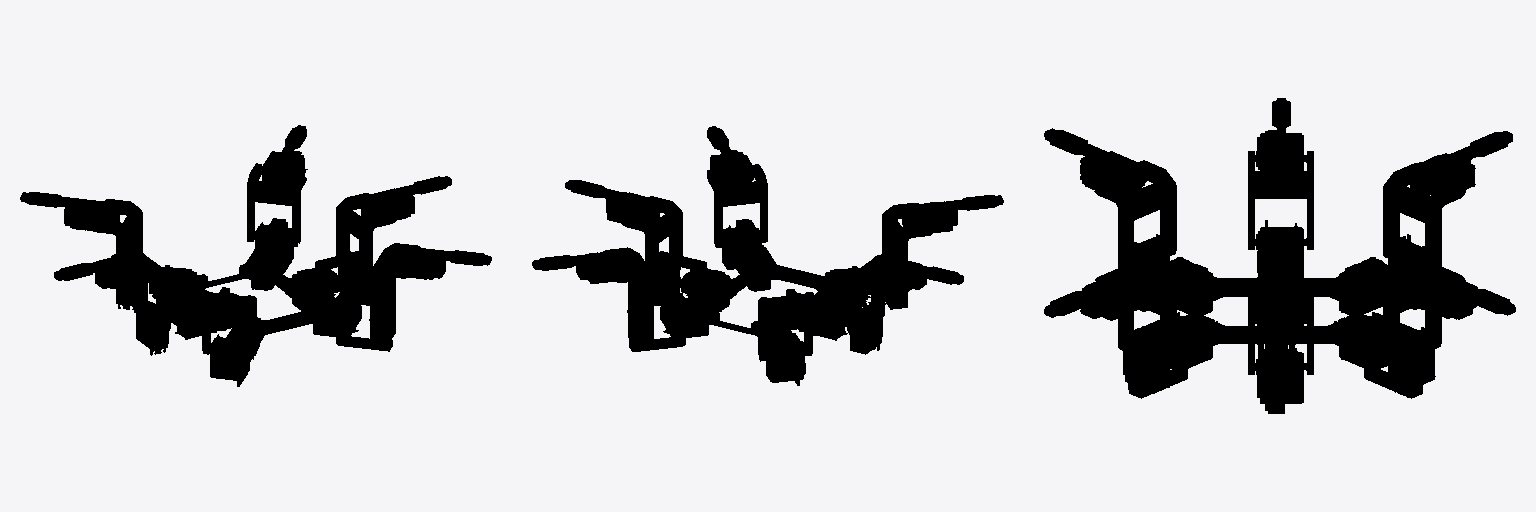
--- What the picture shows (computed from the rendered views, not written in the file) ---
3 views of the same robot in one strip: view 1: azimuth 30°, elevation 25°; view 2: azimuth 150°, elevation 25°; view 3: azimuth 270°, elevation 25° (orthographic).
Model hexapod with 37 links and 36 joints (18 revolute, 18 fixed), rooted at base_link, posed every joint at zero.
Links seen in each view (by area): view 1: base_link, leg5_femur, leg4_femur, leg6_femur, leg1_MG996f, leg2_femur, leg3_femur, leg2_MG996f, leg6_tibia, leg2_tibia, leg3_tibia, leg5_tibia (+18 smaller); view 2: base_link, leg5_femur, leg6_femur, leg2_femur, leg4_femur, leg3_MG996f, leg1_femur, leg4_tibia, leg1_tibia, leg5_tibia, leg2_tibia, leg2_MG996f (+19 smaller); view 3: base_link, leg1_femur, leg3_femur, leg2_femur, leg6_femur, leg4_femur, leg5_MG996f, leg4_MG996f, leg6_MG996f, leg3_tibia, leg4_tibia, leg1_tibia (+20 smaller).
Boxes of the visible links, x1,y1,x2,y2 form: base_link: (149, 246, 361, 347); leg5_femur: (336, 193, 395, 282); leg4_femur: (247, 163, 307, 246); leg6_femur: (370, 243, 420, 328); leg1_MG996f: (210, 334, 249, 386); leg2_femur: (111, 249, 170, 331); leg3_femur: (90, 199, 142, 287); leg2_MG996f: (136, 299, 168, 355); leg6_tibia: (390, 245, 491, 277); leg2_tibia: (54, 251, 148, 288); leg3_tibia: (20, 192, 119, 223); leg5_tibia: (361, 176, 451, 218); base_link: (660, 247, 870, 341); leg5_femur: (621, 196, 682, 286); leg6_femur: (707, 164, 767, 247); leg2_femur: (847, 253, 907, 336); leg4_femur: (603, 247, 653, 333); leg3_MG996f: (766, 333, 806, 385); leg1_femur: (882, 203, 934, 292); leg4_tibia: (532, 250, 631, 279); leg1_tibia: (902, 195, 1003, 225); leg5_tibia: (565, 180, 659, 222); leg2_tibia: (873, 255, 963, 289); leg2_MG996f: (850, 301, 882, 354); base_link: (1154, 254, 1398, 359); leg1_femur: (1094, 160, 1176, 271); leg3_femur: (1383, 163, 1466, 269); leg2_femur: (1248, 151, 1313, 249); leg6_femur: (1095, 268, 1176, 369); leg4_femur: (1383, 266, 1465, 366); leg5_MG996f: (1255, 345, 1303, 410); leg4_MG996f: (1388, 327, 1435, 397); leg6_MG996f: (1123, 326, 1170, 393); leg3_tibia: (1410, 131, 1512, 195); leg4_tibia: (1412, 267, 1515, 319); leg1_tibia: (1044, 128, 1141, 192).
Size in the robot's own frame: 0.4851 by 0.396 by 0.1186 metres.
Meshes: 8 distinct files referenced, 34 mesh visuals loaded (7 binary STL); not drawn: 3 (reference not matched to a file when rendering).

robot.urdf — hexapod:
<?xml version='1.0' encoding='utf-8'?>
<robot name="hexapod">

    <material name="black">
        <color rgba="0 0 0 1" />
    </material>

    <material name="white">
        <color rgba="1 1 1 1" />
    </material>

    <material name="orange">
        <color rgba="0.902 0.345 0 1" />
    </material>

    <link name="base_link">
        <inertial>
            <origin xyz="-1.5537100736355798e-14 -0.002038403435229488 0.006938019086318811" rpy="0.0 0.0 0.0" />
            <mass value="0.6502139585141" />
            <inertia ixx="0.0022857824718964096" iyy="0.0021948811514730725" izz="0.00445927593589297" ixy="9.76998087550513e-17" iyz="2.7823052373888905e-06" ixz="-1.4621550745303059e-18" />
        </inertial>
        <visual name="base_link_visual">
            <origin xyz="0.0 0.0 0.0" rpy="0.0 0.0 0.0" />
            <geometry>
                <mesh filename="Hexapod-Hardware/CAD/base.stl" scale="0.001 0.001 0.001" />
            </geometry>
            <material name="black" />
        </visual>
        <collision name="base_link_collision">
            <origin xyz="0.0 0.0 0.0" rpy="0.0 0.0 0.0" />
            <geometry>
                <mesh filename="Hexapod-Hardware/CAD/base.stl" scale="0.001 0.001 0.001" />
            </geometry>
        </collision>
    </link>

    <!--Leg 1 links-->
    <link name="leg1_MG996c">
        <inertial>
            <origin xyz="-0.021304026820941267 0.013879409959177549 0.008216241413562222" rpy="0.0 -0.0 0.0" />
            <mass value="0.20641808912389753" />
            <inertia ixx="3.9125183253751247e-05" iyy="3.912518931914607e-05" izz="3.601102430698445e-05" ixy="1.135155464957328e-05" iyz="5.607951873505041e-07" ixz="-5.607857783954167e-07" />
        </inertial>
        <visual name="leg1_MG996c_visual">
            <origin xyz="-0.013930002111251399 -0.007283200121891467 -2.220446049250313e-18" rpy="3.141592653589793 -0.0 2.356194490192345" />
            <geometry>
                <mesh filename="Hexapod-Hardware/CAD/MG996.stl" scale="0.001 0.001 0.001" />
            </geometry>
            <material name="black" />
        </visual>
        <collision name="leg1_MG996c_collision">
            <origin xyz="-0.013930002111251399 -0.007283200121891467 -2.220446049250313e-18" rpy="3.141592653589793 -0.0 2.356194490192345" />
            <geometry>
                <mesh filename="Hexapod-Hardware/CAD/MG996.stl" scale="0.001 0.001 0.001" />
            </geometry>
        </collision>
    </link>
    <link name="leg1_coxa">
        <inertial>
            <origin xyz="-0.018048605950277 -0.017834011443633724 -0.02487963924889388" rpy="0.0 -0.0 0.0" />
            <mass value="0.07898637744159479" />
            <inertia ixx="6.0245481740664724e-05" iyy="6.0668022033295594e-05" izz="2.4265877776945624e-05" ixy="-1.0825354473683701e-05" iyz="4.178916067895382e-06" ixz="4.235353595363469e-06" />
        </inertial>
        <visual name="leg1_coxa_visual">
            <origin xyz="-0.03747666052846265 -0.03747666052845746 0.0010000000000000054" rpy="0.0 -0.0 -0.7853981633974483" />
            <geometry>
                <mesh filename="Hexapod-Hardware/CAD/coxa_right.stl" scale="0.001 0.001 0.001" />
            </geometry>
            <material name="black" />
        </visual>
        <collision name="leg1_coxa_collision">
            <origin xyz="-0.03747666052846265 -0.03747666052845746 0.0010000000000000054" rpy="0.0 -0.0 -0.7853981633974483" />
            <geometry>
                <mesh filename="Hexapod-Hardware/CAD/coxa_right.stl" scale="0.001 0.001 0.001" />
            </geometry>
        </collision>
    </link>
    <link name="leg1_MG996f">
        <inertial>
            <origin xyz="0.024878447972789576 0.009522068265377008 0.002097446836807624" rpy="0.0 -0.0 0.0" />
            <mass value="0.20641808912389753" />
            <inertia ixx="2.777363163687565e-05" iyy="4.3243875968366954e-05" izz="4.32438892746384e-05" ixy="5.607883384320042e-07" iyz="-7.232858314518663e-06" ixz="5.607926273139098e-07" />
        </inertial>
        <visual name="leg1_MG996f_visual">
            <origin xyz="0.004700000000000009 0.010606600931670993 -0.010606605868277549" rpy="2.356194490192345 5.551115123125783e-17 5.551115123125783e-17" />
            <geometry>
                <mesh filename="Hexapod-Hardware/CAD/MG996.stl" scale="0.001 0.001 0.001" />
            </geometry>
            <material name="black" />
        </visual>
        <collision name="leg1_MG996f_collision">
            <origin xyz="0.004700000000000009 0.010606600931670993 -0.010606605868277549" rpy="2.356194490192345 5.551115123125783e-17 5.551115123125783e-17" />
            <geometry>
                <mesh filename="Hexapod-Hardware/CAD/MG996.stl" scale="0.001 0.001 0.001" />
            </geometry>
        </collision>
    </link>
    <link name="leg1_femur">
        <inertial>
            <origin xyz="-0.018388939255642358 0.013969821069098333 0.04552760716696073" rpy="0.0 -0.0 0.0" />
            <mass value="0.2061355014221324" />
            <inertia ixx="0.0001174197530764338" iyy="0.0001250673024832975" izz="0.00010098830847293013" ixy="3.467542980046352e-05" iyz="1.1418298465589501e-05" ixz="4.86372304098529e-06" />
        </inertial>
        <visual name="leg1_femur_visual">
            <origin xyz="-0.030405593688388067 0.03040558825519895 1.1102230246251566e-17" rpy="1.5707963267948966 -0.6108652381980156 -2.356194490192345" />
            <geometry>
                <mesh filename="Hexapod-Hardware/CAD/femur_right.stl" scale="0.001 0.001 0.001" />
            </geometry>
            <material name="black" />
        </visual>
        <collision name="leg1_femur_collision">
            <origin xyz="-0.030405593688388067 0.03040558825519895 1.1102230246251566e-17" rpy="1.5707963267948966 -0.6108652381980156 -2.356194490192345" />
            <geometry>
                <mesh filename="Hexapod-Hardware/CAD/femur_right.stl" scale="0.001 0.001 0.001" />
            </geometry>
        </collision>
    </link>
    <link name="leg1_MG996t">
        <inertial>
            <origin xyz="-0.02074495471430888 -0.006501630387875857 2.688362599201355e-09" rpy="0.0 -0.0 0.0" />
            <mass value="0.20641808912389753" />
            <inertia ixx="3.1099250465400734e-05" iyy="3.268540547845828e-05" izz="5.047674093601982e-05" ixy="4.1186963350551605e-06" iyz="6.848918567926504e-12" ixz="2.560036816874473e-12" />
        </inertial>
        <visual name="leg1_MG996t_visual">
            <origin xyz="-0.029203512090292722 0.013576447026899193 0.009750004907434402" rpy="-1.5707963267948968 -7.053861262421881e-16 -0.7853981633974486" />
            <geometry>
                <mesh filename="Hexapod-Hardware/CAD/MG996.stl" scale="0.001 0.001 0.001" />
            </geometry>
            <material name="black" />
        </visual>
        <collision name="leg1_MG996t_collision">
            <origin xyz="-0.029203512090292722 0.013576447026899193 0.009750004907434402" rpy="-1.5707963267948968 -7.053861262421881e-16 -0.7853981633974486" />
            <geometry>
                <mesh filename="Hexapod-Hardware/CAD/MG996.stl" scale="0.001 0.001 0.001" />
            </geometry>
        </collision>
    </link>
    <link name="leg1_tibia">
        <inertial>
            <origin xyz="-0.03995109484200471 -0.025800551093325356 0.013220214065198625" rpy="0.0 -0.0 0.0" />
            <mass value="0.09285304614043148" />
            <inertia ixx="5.1309863875431536e-05" iyy="5.664323795965707e-05" izz="9.868903018824682e-05" ixy="-4.755379767065316e-05" iyz="5.1937257807535475e-06" ixz="6.548081736350214e-06" />
        </inertial>
        <visual name="leg1_tibia_visual">
            <origin xyz="-0.03648670888047988 -0.026162954811762767 -0.004750004907434402" rpy="-0.7853981633974483 -1.570796326794896 0" />
            <geometry>
                <mesh filename="Hexapod-Hardware/CAD/tibia_right.stl" scale="0.001 0.001 0.001" />
            </geometry>
            <material name="black" />
        </visual>
        <collision name="leg1_tibia_collision">
            <origin xyz="-0.03648670888047988 -0.026162954811762767 -0.004750004907434402" rpy="-0.7853981633974483 -1.570796326794896 0" />
            <geometry>
                <mesh filename="Hexapod-Hardware/CAD/tibia_right.stl" scale="0.001 0.001 0.001" />
            </geometry>
        </collision>
    </link>
    <!--
    <link name="leg1_shield">
        <inertial>
            <origin xyz="0.0079568594346555 0.02272417345231009 -0.022724629731227283" rpy="0.0 -0.0 0.0" />
            <mass value="0.09400422482344938" />
            <inertia ixx="0.00011235877990886396" iyy="5.845313432736128e-05" izz="5.845346139379858e-05" ixy="2.724396003726077e-06" iyz="4.05725750517341e-05" ixz="-2.724973858622389e-06" />
        </inertial>
        <visual name="leg1_shield_visual">
            <origin xyz="-4.907434369982866e-09 0.0014142156932291528 0.02687005387244227" rpy="1.5707963267948968 0.7853981633974483 1.570796326794897" />
            <geometry>
                <mesh filename="Hexapod-Hardware/CAD/shield.stl" scale="0.001 0.001 0.001" />
            </geometry>
            <material name="orange" />
        </visual>
        <collision name="leg1_shield_collision">
            <origin xyz="-4.907434369982866e-09 0.0014142156932291528 0.02687005387244227" rpy="1.5707963267948968 0.7853981633974483 1.570796326794897" />
            <geometry>
                <mesh filename="Hexapod-Hardware/CAD/shield.stl" scale="0.001 0.001 0.001" />
            </geometry>
        </collision>
    </link>
    -->

    <!--Leg 2 links-->
    <link name="leg2_MG996c">
        <inertial>
            <origin xyz="-0.02487844797278954 -0.00524999778092809 0.008216241413562222" rpy="0.0 -0.0 0.0" />
            <mass value="0.20641808912389753" />
            <inertia ixx="2.7773631636875524e-05" iyy="5.047674093602156e-05" izz="3.601102430698445e-05" ixy="-3.0326974862454255e-12" iyz="6.653135933115804e-12" ixz="-7.93077506528665e-07" />
        </inertial>
        <visual name="leg2_MG996c_visual">
            <origin xyz="-0.00469999999999998 -0.014999999999999914 -2.220446049250313e-18" rpy="3.141592653589793 -0.0 3.141592653589793" />
            <geometry>
                <mesh filename="Hexapod-Hardware/CAD/MG996.stl" scale="0.001 0.001 0.001" />
            </geometry>
            <material name="black" />
        </visual>
        <collision name="leg2_MG996c_collision">
            <origin xyz="-0.00469999999999998 -0.014999999999999914 -2.220446049250313e-18" rpy="3.141592653589793 -0.0 3.141592653589793" />
            <geometry>
                <mesh filename="Hexapod-Hardware/CAD/MG996.stl" scale="0.001 0.001 0.001" />
            </geometry>
        </collision>
    </link>
    <link name="leg2_coxa">
        <inertial>
            <origin xyz="-0.025372840494155984 0.00015174123084907715 -0.02487963924889388" rpy="0.0 -0.0 0.0" />
            <mass value="0.07898637744159479" />
            <inertia ixx="4.963139741329645e-05" iyy="7.128210636066343e-05" izz="2.4265877776945407e-05" ixy="2.112701463155309e-07" iyz="-3.990735838609893e-08" ixz="5.949787137622529e-06" />
        </inertial>
        <visual name="leg2_coxa_visual">
            <origin xyz="-0.05299999999999999 -9.428360203700333e-17 0.0010000000000000054" rpy="0.0 -0.0 -1.5707963267948966" />
            <geometry>
                <mesh filename="Hexapod-Hardware/CAD/coxa_right.stl" scale="0.001 0.001 0.001" />
            </geometry>
            <material name="black" />
        </visual>
        <collision name="leg2_coxa_collision">
            <origin xyz="-0.05299999999999999 -9.428360203700333e-17 0.0010000000000000054" rpy="0.0 -0.0 -1.5707963267948966" />
            <geometry>
                <mesh filename="Hexapod-Hardware/CAD/coxa_right.stl" scale="0.001 0.001 0.001" />
            </geometry>
        </collision>
    </link>
    <link name="leg2_MG996t">
        <inertial>
            <origin xyz="-0.010071550349059244 -0.019266241413562125 2.6883626169649235e-09" rpy="0.0 -0.0 0.0" />
            <mass value="0.20641808912389753" />
            <inertia ixx="2.7773631636875e-05" iyy="3.601102430698423e-05" izz="5.047674093602069e-05" ixy="-7.930775065286854e-07" iyz="6.653135934699388e-12" ixz="-3.0326969234495404e-12" />
        </inertial>
        <visual name="leg2_MG996t_visual">
            <origin xyz="-0.030249998321848822 -0.0110499999999999 0.00975000490743443" rpy="-1.5707963267948966 -5.608327010386881e-16 -6.123233995736767e-17" />
            <geometry>
                <mesh filename="Hexapod-Hardware/CAD/MG996.stl" scale="0.001 0.001 0.001" />
            </geometry>
            <material name="black" />
        </visual>
        <collision name="leg2_MG996t_collision">
            <origin xyz="-0.030249998321848822 -0.0110499999999999 0.00975000490743443" rpy="-1.5707963267948966 -5.608327010386881e-16 -6.123233995736767e-17" />
            <geometry>
                <mesh filename="Hexapod-Hardware/CAD/MG996.stl" scale="0.001 0.001 0.001" />
            </geometry>
        </collision>
    </link>
    <link name="leg2_femur">
        <inertial>
            <origin xyz="-0.0031247845947251916 0.02288109973213494 0.04552760716696073" rpy="0.0 -0.0 0.0" />
            <mass value="0.2061355014221324" />
            <inertia ixx="0.00015591895758032938" iyy="8.656809797940278e-05" izz="0.00010098830847293013" ixy="3.823774703431824e-06" iyz="4.634784730536001e-06" ixz="1.1513127818724676e-05" />
        </inertial>
        <visual name="leg2_femur_visual">
            <origin xyz="0.0 0.0429999999999999 1.1102230246251566e-17" rpy="1.5707963267948966 -0.6108652381980154 -3.141592653589793" />
            <geometry>
                <mesh filename="Hexapod-Hardware/CAD/femur_right.stl" scale="0.001 0.001 0.001" />
            </geometry>
            <material name="black" />
        </visual>
        <collision name="leg2_femur_collision">
            <origin xyz="0.0 0.0429999999999999 1.1102230246251566e-17" rpy="1.5707963267948966 -0.6108652381980154 -3.141592653589793" />
            <geometry>
                <mesh filename="Hexapod-Hardware/CAD/femur_right.stl" scale="0.001 0.001 0.001" />
            </geometry>
        </collision>
    </link>
    <link name="leg2_MG996f">
        <inertial>
            <origin xyz="0.024878447972789576 0.00821624141356212 -0.00524999778092818" rpy="0.0 -0.0 0.0" />
            <mass value="0.20641808912389753" />
            <inertia ixx="2.7773631636876083e-05" iyy="3.601102430698553e-05" izz="5.047674093602181e-05" ixy="7.930775065286857e-07" iyz="6.653135927923125e-12" ixz="3.0326974655506267e-12" />
        </inertial>
        <visual name="leg2_MG996f_visual">
            <origin xyz="0.004700000000000009 -1.0325074129013956e-16 -0.015" rpy="1.5707963267948968 -0.0 3.749399456654644e-33" />
            <geometry>
                <mesh filename="Hexapod-Hardware/CAD/MG996.stl" scale="0.001 0.001 0.001" />
            </geometry>
            <material name="black" />
        </visual>
        <collision name="leg2_MG996f_collision">
            <origin xyz="0.004700000000000009 -1.0325074129013956e-16 -0.015" rpy="1.5707963267948968 -0.0 3.749399456654644e-33" />
            <geometry>
                <mesh filename="Hexapod-Hardware/CAD/MG996.stl" scale="0.001 0.001 0.001" />
            </geometry>
        </collision>
    </link>
    <link name="leg2_tibia">
        <inertial>
            <origin xyz="-0.04649343100105618 0.010005948932875887 0.002720214065198672" rpy="0.0 -0.0 0.0" />
            <mass value="0.09285304614043148" />
            <inertia ixx="6.42275324689147e-06" iyy="0.00010153034858819679" izz="9.86890301882459e-05" ixy="2.6666870421129167e-06" iyz="-9.576742803426859e-07" ixz="8.302711718731438e-06" />
        </inertial>
        <visual name="leg2_tibia_visual">
            <origin xyz="-0.0442999983218488 0.0072999999999999 -0.015250004907434373" rpy="-1.5707963267948966 -1.570796326794896 0" />
            <geometry>
                <mesh filename="Hexapod-Hardware/CAD/tibia_right.stl" scale="0.001 0.001 0.001" />
            </geometry>
            <material name="black" />
        </visual>
        <collision name="leg2_tibia_collision">
            <origin xyz="-0.0442999983218488 0.0072999999999999 -0.015250004907434373" rpy="-1.5707963267948966 -1.570796326794896 0" />
            <geometry>
                <mesh filename="Hexapod-Hardware/CAD/tibia_right.stl" scale="0.001 0.001 0.001" />
            </geometry>
        </collision>
    </link>
    <!--
    <link name="leg2_shield">
        <inertial>
            <origin xyz="0.007956859434655553 -3.214487111319331e-07 -0.032137151919441255" rpy="0.0 -0.0 0.0" />
            <mass value="0.09400422482344938" />
            <inertia ixx="0.00011235877990886352" iyy="9.902587291231446e-05" izz="1.788072280884496e-05" ixy="-4.0860511540719057e-10" iyz="1.6353321903020065e-10" ixz="-3.853286382860194e-06" />
        </inertial>
        <visual name="leg2_shield_visual">
            <origin xyz="-4.9074343344557295e-09 0.01999999999999988 0.018000000805759805" rpy="4.295254065614839e-32 1.5707963267948966 0" />
            <geometry>
                <mesh filename="Hexapod-Hardware/CAD/shield.stl" scale="0.001 0.001 0.001" />
            </geometry>
            <material name="orange" />
        </visual>
        <collision name="leg2_shield_collision">
            <origin xyz="-4.9074343344557295e-09 0.01999999999999988 0.018000000805759805" rpy="4.295254065614839e-32 1.5707963267948966 0" />
            <geometry>
                <mesh filename="Hexapod-Hardware/CAD/shield.stl" scale="0.001 0.001 0.001" />
            </geometry>
        </collision>
    </link>
    -->

    <!--Leg 3 links-->
    <link name="leg3_MG996c">
        <inertial>
            <origin xyz="-0.013879409959183865 -0.02130402682093723 0.008216241413562222" rpy="0.0 -0.0 0.0" />
            <mass value="0.20641808912389753" />
            <inertia ixx="3.912518931914618e-05" iyy="3.9125183253751247e-05" izz="3.60110243069851e-05" ixy="-1.1351554649573063e-05" iyz="-5.607857783954167e-07" ixz="-5.60795187350477e-07" />
        </inertial>
        <visual name="leg3_MG996c_visual">
            <origin xyz="0.007283200121885147 -0.013930002111247354 -2.220446049250313e-18" rpy="3.141592653589793 -0.0 -2.356194490192345" />
            <geometry>
                <mesh filename="Hexapod-Hardware/CAD/MG996.stl" scale="0.001 0.001 0.001" />
            </geometry>
            <material name="black" />
        </visual>
        <collision name="leg3_MG996c_collision">
            <origin xyz="0.007283200121885147 -0.013930002111247354 -2.220446049250313e-18" rpy="3.141592653589793 -0.0 -2.356194490192345" />
            <geometry>
                <mesh filename="Hexapod-Hardware/CAD/MG996.stl" scale="0.001 0.001 0.001" />
            </geometry>
        </collision>
    </link>
    <link name="leg3_coxa">
        <inertial>
            <origin xyz="-0.017834011443640056 0.018048605950272946 -0.02487963924889388" rpy="0.0 -0.0 0.0" />
            <mass value="0.07898637744159479" />
            <inertia ixx="6.0668022033295486e-05" iyy="6.024548174066451e-05" izz="2.4265877776945407e-05" ixy="1.0825354473683701e-05" iyz="-4.235353595363456e-06" ixz="4.178916067895357e-06" />
        </inertial>
        <visual name="leg3_coxa_visual">
            <origin xyz="-0.03747666052846379 0.0374766605284586 0.0010000000000000054" rpy="0.0 -0.0 -2.356194490192345" />
            <geometry>
                <mesh filename="Hexapod-Hardware/CAD/coxa_right.stl" scale="0.001 0.001 0.001" />
            </geometry>
            <material name="black" />
        </visual>
        <collision name="leg3_coxa_collision">
            <origin xyz="-0.03747666052846379 0.0374766605284586 0.0010000000000000054" rpy="0.0 -0.0 -2.356194490192345" />
            <geometry>
                <mesh filename="Hexapod-Hardware/CAD/coxa_right.stl" scale="0.001 0.001 0.001" />
            </geometry>
        </collision>
    </link>
    <link name="leg3_MG996f">
        <inertial>
            <origin xyz="0.024878447972789576 0.002097446836803627 -0.009522068265370703" rpy="0.0 -0.0 0.0" />
            <mass value="0.20641808912389753" />
            <inertia ixx="2.7773631636876517e-05" iyy="4.3243889274639053e-05" izz="4.3243875968366954e-05" ixy="5.60792627313903e-07" iyz="7.232858314518663e-06" ixz="-5.607883384319974e-07" />
        </inertial>
        <visual name="leg3_MG996f_visual">
            <origin xyz="0.004700000000000009 -0.010606605868281545 -0.01060660093166467" rpy="0.7853981633974483 -0.0 0.0" />
            <geometry>
                <mesh filename="Hexapod-Hardware/CAD/MG996.stl" scale="0.001 0.001 0.001" />
            </geometry>
            <material name="black" />
        </visual>
        <collision name="leg3_MG996f_collision">
            <origin xyz="0.004700000000000009 -0.010606605868281545 -0.01060660093166467" rpy="0.7853981633974483 -0.0 0.0" />
            <geometry>
                <mesh filename="Hexapod-Hardware/CAD/MG996.stl" scale="0.001 0.001 0.001" />
            </geometry>
        </collision>
    </link>
    <link name="leg3_femur">
        <inertial>
            <origin xyz="0.013969821069091976 0.018388939255638323 0.04552760716696073" rpy="0.0 -0.0 0.0" />
            <mass value="0.2061355014221324" />
            <inertia ixx="0.00012506730248329836" iyy="0.0001174197530764338" izz="0.000100988308472931" ixy="-3.467542980046352e-05" iyz="-4.863723040985941e-06" ixz="1.1418298465589068e-05" />
        </inertial>
        <visual name="leg3_femur_visual">
            <origin xyz="0.03040558825519259 0.030405593688384053 1.1102230246251566e-17" rpy="1.5707963267948966 -0.6108652381980152 2.356194490192345" />
            <geometry>
                <mesh filename="Hexapod-Hardware/CAD/femur_right.stl" scale="0.001 0.001 0.001" />
            </geometry>
            <material name="black" />
        </visual>
        <collision name="leg3_femur_collision">
            <origin xyz="0.03040558825519259 0.030405593688384053 1.1102230246251566e-17" rpy="1.5707963267948966 -0.6108652381980152 2.356194490192345" />
            <geometry>
                <mesh filename="Hexapod-Hardware/CAD/femur_right.stl" scale="0.001 0.001 0.001" />
            </geometry>
        </collision>
    </link>
    <link name="leg3_MG996t">
        <inertial>
            <origin xyz="0.005794523434903134 0.0200378477613385 -2.6883626524920603e-09" rpy="0.0 -0.0 0.0" />
            <mass value="0.20641808912389753" />
            <inertia ixx="3.268540547845915e-05" iyy="3.109925046540159e-05" izz="5.047674093601982e-05" ixy="4.118696335054726e-06" iyz="2.5600368163814726e-12" ixz="6.848918349121394e-12" />
        </inertial>
        <visual name="leg3_MG996t_visual">
            <origin xyz="-0.014283553979871896 0.028496405137322347 -0.009750004907434481" rpy="1.5707963267948966 -3.885780586188048e-16 -0.7853981633974485" />
            <geometry>
                <mesh filename="Hexapod-Hardware/CAD/MG996.stl" scale="0.001 0.001 0.001" />
            </geometry>
            <material name="black" />
        </visual>
        <collision name="leg3_MG996t_collision">
            <origin xyz="-0.014283553979871896 0.028496405137322347 -0.009750004907434481" rpy="1.5707963267948966 -3.885780586188048e-16 -0.7853981633974485" />
            <geometry>
                <mesh filename="Hexapod-Hardware/CAD/MG996.stl" scale="0.001 0.001 0.001" />
            </geometry>
        </collision>
    </link>
    <link name="leg3_tibia">
        <inertial>
            <origin xyz="-0.025800548046298104 0.03995109788903433 0.013220214065198573" rpy="0.0 -0.0 0.0" />
            <mass value="0.09285304614043148" />
            <inertia ixx="5.664323795965664e-05" iyy="5.130986387543064e-05" izz="9.86890301882459e-05" ixy="4.7553797670652495e-05" iyz="-6.548081736349994e-06" ixz="5.1937257807537635e-06" />
        </inertial>
        <visual name="leg3_tibia_visual">
            <origin xyz="-0.026162951764735497 0.0364867119275095 -0.004750004907434464" rpy="-2.356194490192345 -1.5707963267948963 0" />
            <geometry>
                <mesh filename="Hexapod-Hardware/CAD/tibia_right.stl" scale="0.001 0.001 0.001" />
            </geometry>
            <material name="black" />
        </visual>
        <collision name="leg3_tibia_collision">
            <origin xyz="-0.026162951764735497 0.0364867119275095 -0.004750004907434464" rpy="-2.356194490192345 -1.5707963267948963 0" />
            <geometry>
                <mesh filename="Hexapod-Hardware/CAD/tibia_right.stl" scale="0.001 0.001 0.001" />
            </geometry>
        </collision>
    </link>
    <!--
    <link name="leg3_shield">
        <inertial>
            <origin xyz="0.007956859434655428 -0.022724626684197596 -0.022724166499337298" rpy="-2.7369110631344083e-48 6.842277657836022e-49 -6.842277657836022e-49" />
            <mass value="0.09400422482344938" />
            <inertia ixx="0.0001123587799088648" iyy="5.8453461393798565e-05" izz="5.8453134327360844e-05" ixy="-2.724973858622388e-06" iyz="-4.0572575051734526e-05" ixz="-2.7243960037262936e-06" />
        </inertial>
        <visual name="leg3_shield_visual">
            <origin xyz="-4.907434458800708e-09 0.02687005691947199 -0.0014142087402563774" rpy="-1.5707963267948966 0.7853981633974483 -1.5707963267948966" />
            <geometry>
                <mesh filename="Hexapod-Hardware/CAD/shield.stl" scale="0.001 0.001 0.001" />
            </geometry>
            <material name="orange" />
        </visual>
        <collision name="leg3_shield_collision">
            <origin xyz="-4.907434458800708e-09 0.02687005691947199 -0.0014142087402563774" rpy="-1.5707963267948966 0.7853981633974483 -1.5707963267948966" />
            <geometry>
                <mesh filename="Hexapod-Hardware/CAD/shield.stl" scale="0.001 0.001 0.001" />
            </geometry>
        </collision>
    </link>
    -->

    <!--Leg 4 links-->
    <link name="leg4_MG996c">
        <inertial>
            <origin xyz="0.021304026820941204 -0.01387940995917754 0.008216241413562222" rpy="0.0 -0.0 0.0" />
            <mass value="0.20641808912389753" />
            <inertia ixx="3.912518325375103e-05" iyy="3.912518931914607e-05" izz="3.601102430698445e-05" ixy="1.1351554649573063e-05" iyz="-5.60795187350477e-07" ixz="5.607857783954031e-07" />
        </inertial>
        <visual name="leg4_MG996c_visual">
            <origin xyz="0.013930002111251337 0.007283200121891475 -2.220446049250313e-18" rpy="3.141592653589793 -0.0 -0.7853981633974483" />
            <geometry>
                <mesh filename="Hexapod-Hardware/CAD/MG996.stl" scale="0.001 0.001 0.001" />
            </geometry>
            <material name="black" />
        </visual>
        <collision name="leg4_MG996c_collision">
            <origin xyz="0.013930002111251337 0.007283200121891475 -2.220446049250313e-18" rpy="3.141592653589793 -0.0 -0.7853981633974483" />
            <geometry>
                <mesh filename="Hexapod-Hardware/CAD/MG996.stl" scale="0.001 0.001 0.001" />
            </geometry>
        </collision>
    </link>
    <link name="leg4_coxa">
        <inertial>
            <origin xyz="0.017834011443634532 0.018048605950276093 -0.024879639248893887" rpy="0.0 -0.0 0.0" />
            <mass value="0.07898637744159481" />
            <inertia ixx="6.066802203296567e-05" iyy="6.024548174035898e-05" izz="2.4265877776310065e-05" ixy="-1.0825354473048359e-05" iyz="-4.23535359535696e-06" ixz="-4.178916067901856e-06" />
        </inertial>
        <visual name="leg4_coxa_visual">
            <origin xyz="0.03747666052846258 0.037476660528457446 0.0010000000000000054" rpy="3.141592653589793 -0.0 -0.7853981633974485" />
            <geometry>
                <mesh filename="Hexapod-Hardware/CAD/coxa_left.stl" scale="0.001 0.001 0.001" />
            </geometry>
            <material name="black" />
        </visual>
        <collision name="leg4_coxa_collision">
            <origin xyz="0.03747666052846258 0.037476660528457446 0.0010000000000000054" rpy="3.141592653589793 -0.0 -0.7853981633974485" />
            <geometry>
                <mesh filename="Hexapod-Hardware/CAD/coxa_left.stl" scale="0.001 0.001 0.001" />
            </geometry>
        </collision>
    </link>
    <link name="leg4_MG996f">
        <inertial>
            <origin xyz="-0.024521552027210444 -0.009522073698561045 -0.0020974514036133664" rpy="0.0 -0.0 0.0" />
            <mass value="0.20641808912389753" />
            <inertia ixx="2.7773631636876517e-05" iyy="4.324387596836739e-05" izz="4.324388927463927e-05" ixy="-5.607883384319703e-07" iyz="-7.2328583145190965e-06" ixz="-5.607926273139301e-07" />
        </inertial>
        <visual name="leg4_MG996f_visual">
            <origin xyz="-0.04470000000000001 -0.010606606364855012 0.010606601301471806" rpy="-0.7853981633974485 -5.5511151231257815e-17 -1.1102230246251563e-16" />
            <geometry>
                <mesh filename="Hexapod-Hardware/CAD/MG996.stl" scale="0.001 0.001 0.001" />
            </geometry>
            <material name="black" />
        </visual>
        <collision name="leg4_MG996f_collision">
            <origin xyz="-0.04470000000000001 -0.010606606364855012 0.010606601301471806" rpy="-0.7853981633974485 -5.5511151231257815e-17 -1.1102230246251563e-16" />
            <geometry>
                <mesh filename="Hexapod-Hardware/CAD/MG996.stl" scale="0.001 0.001 0.001" />
            </geometry>
        </collision>
    </link>
    <link name="leg4_femur">
        <inertial>
            <origin xyz="-0.013969821069090945 0.018388939255639673 0.045527607166963115" rpy="0.0 -0.0 0.0" />
            <mass value="0.2061355014221325" />
            <inertia ixx="0.00012506730248260448" iyy="0.00011741975307571473" izz="0.00010098830847278525" ixy="3.4675429800533335e-05" iyz="-4.8637230415219685e-06" ixz="-1.141829846611317e-05" />
        </inertial>
        <visual name="leg4_femur_visual">
            <origin xyz="-0.03040558825519396 0.03040559368838304 2.4424906541753444e-17" rpy="1.5707963267948963 -0.6108652381980147 0.7853981633974478" />
            <geometry>
                <mesh filename="Hexapod-Hardware/CAD/femur_left.stl" scale="0.001 0.001 0.001" />
            </geometry>
            <material name="black" />
        </visual>
        <collision name="leg4_femur_collision">
            <origin xyz="-0.03040558825519396 0.03040559368838304 2.4424906541753444e-17" rpy="1.5707963267948963 -0.6108652381980147 0.7853981633974478" />
            <geometry>
                <mesh filename="Hexapod-Hardware/CAD/femur_left.stl" scale="0.001 0.001 0.001" />
            </geometry>
        </collision>
    </link>
    <link name="leg4_MG996t">
        <inertial>
            <origin xyz="-0.006501630387870669 -0.020744954714303744 7.126506247345787e-09" rpy="-1.5407439555097887e-33 1.232595164407831e-32 0.0" />
            <mass value="0.20641808912389753" />
            <inertia ixx="3.2685405478459134e-05" iyy="3.109925046540072e-05" izz="5.0476740936021544e-05" ixy="4.118696335055157e-06" iyz="-2.560036818518699e-12" ixz="-6.8489181349411156e-12" />
        </inertial>
        <visual name="leg4_MG996t_visual">
            <origin xyz="0.013576447026904397 -0.029203512090287608 -0.009749995092565564" rpy="1.5707963267948968 3.67395003908284e-16 2.3561944901923453" />
            <geometry>
                <mesh filename="Hexapod-Hardware/CAD/MG996.stl" scale="0.001 0.001 0.001" />
            </geometry>
            <material name="black" />
        </visual>
        <collision name="leg4_MG996t_collision">
            <origin xyz="0.013576447026904397 -0.029203512090287608 -0.009749995092565564" rpy="1.5707963267948968 3.67395003908284e-16 2.3561944901923453" />
            <geometry>
                <mesh filename="Hexapod-Hardware/CAD/MG996.stl" scale="0.001 0.001 0.001" />
            </geometry>
        </collision>
    </link>
    <link name="leg4_tibia">
        <inertial>
            <origin xyz="0.025800551093330404 0.039951094841999525 0.013220214065198634" rpy="0.0 -0.0 -6.123514873949634e-63" />
            <mass value="0.09285304614043133" />
            <inertia ixx="5.6643237959664444e-05" iyy="5.1309863875438e-05" izz="9.868903018825977e-05" ixy="-4.7553797670659644e-05" iyz="-6.548081736350427e-06" ixz="-5.193725780753547e-06" />
        </inertial>
        <visual name="leg4_tibia_visual">
            <origin xyz="0.026162954811767863 0.03648670888047475 -0.004750004907434428" rpy="2.3561944901923457 -1.5707963267948963 0" />
            <geometry>
                <mesh filename="Hexapod-Hardware/CAD/tibia_left.stl" scale="0.001 0.001 0.001" />
            </geometry>
            <material name="black" />
        </visual>
        <collision name="leg4_tibia_collision">
            <origin xyz="0.026162954811767863 0.03648670888047475 -0.004750004907434428" rpy="2.3561944901923457 -1.5707963267948963 0" />
            <geometry>
                <mesh filename="Hexapod-Hardware/CAD/tibia_left.stl" scale="0.001 0.001 0.001" />
            </geometry>
        </collision>
    </link>
    <!--
    <link name="leg4_shield">
        <inertial>
            <origin xyz="0.007956859434655482 0.0227241751341057 -0.02272462804943171" rpy="0.0 6.842277657836022e-49 0.0" />
            <mass value="0.09400422482344938" />
            <inertia ixx="0.0001123587799088648" iyy="5.845313432735996e-05" izz="5.845346139379901e-05" ixy="2.724396003726727e-06" iyz="4.0572575051735394e-05" ixz="-2.7249738586223884e-06" />
        </inertial>
        <visual name="leg4_shield_visual">
            <origin xyz="-4.907434423273571e-09 0.0014142173750247267 0.026870055554237843" rpy="1.5707963267948963 0.7853981633974475 1.5707963267948961" />
            <geometry>
                <mesh filename="Hexapod-Hardware/CAD/shield.stl" scale="0.001 0.001 0.001" />
            </geometry>
            <material name="orange" />
        </visual>
        <collision name="leg4_shield_collision">
            <origin xyz="-4.907434423273571e-09 0.0014142173750247267 0.026870055554237843" rpy="1.5707963267948963 0.7853981633974475 1.5707963267948961" />
            <geometry>
                <mesh filename="Hexapod-Hardware/CAD/shield.stl" scale="0.001 0.001 0.001" />
            </geometry>
        </collision>
    </link>
    -->

    <!--Leg 5 links-->
    <link name="leg5_MG996c">
        <inertial>
            <origin xyz="0.02487844797278954 0.005249997780928263 0.008216241413562222" rpy="0.0 -0.0 0.0" />
            <mass value="0.20641808912389753" />
            <inertia ixx="2.7773631636875538e-05" iyy="5.047674093602156e-05" izz="3.601102430698445e-05" ixy="-3.0326974931145142e-12" iyz="-6.653135931721467e-12" ixz="7.93077506528665e-07" />
        </inertial>
        <visual name="leg5_MG996c_visual">
            <origin xyz="0.00469999999999998 0.015000000000000084 -2.220446049250313e-18" rpy="3.141592653589793 -0.0 0.0" />
            <geometry>
                <mesh filename="Hexapod-Hardware/CAD/MG996.stl" scale="0.001 0.001 0.001" />
            </geometry>
            <material name="black" />
        </visual>
        <collision name="leg5_MG996c_collision">
            <origin xyz="0.00469999999999998 0.015000000000000084 -2.220446049250313e-18" rpy="3.141592653589793 -0.0 0.0" />
            <geometry>
                <mesh filename="Hexapod-Hardware/CAD/MG996.stl" scale="0.001 0.001 0.001" />
            </geometry>
        </collision>
    </link>
    <link name="leg5_coxa">
        <inertial>
            <origin xyz="0.025372840494155967 0.00015174123085516145 -0.024879639248893887" rpy="0.0 -0.0 0.0" />
            <mass value="0.07898637744159481" />
            <inertia ixx="4.9631397413614e-05" iyy="7.128210635971063e-05" izz="2.4265877776310173e-05" ixy="-2.112701463033402e-07" iyz="-3.9907358376888544e-08" ixz="-5.949787137622581e-06" />
        </inertial>
        <visual name="leg5_coxa_visual">
            <origin xyz="0.05299999999999999 -9.30026689001082e-17 0.0010000000000000054" rpy="3.141592653589793 -0.0 -1.5707963267948968" />
            <geometry>
                <mesh filename="Hexapod-Hardware/CAD/coxa_left.stl" scale="0.001 0.001 0.001" />
            </geometry>
            <material name="black" />
        </visual>
        <collision name="leg5_coxa_collision">
            <origin xyz="0.05299999999999999 -9.30026689001082e-17 0.0010000000000000054" rpy="3.141592653589793 -0.0 -1.5707963267948968" />
            <geometry>
                <mesh filename="Hexapod-Hardware/CAD/coxa_left.stl" scale="0.001 0.001 0.001" />
            </geometry>
        </collision>
    </link>
    <link name="leg5_MG996f">
        <inertial>
            <origin xyz="0.02487844797278957 -0.008216241413562128 0.005249997780928162" rpy="0.0 -0.0 0.0" />
            <mass value="0.20641808912389753" />
            <inertia ixx="2.777363163687565e-05" iyy="3.60110243069851e-05" izz="5.047674093602178e-05" ixy="-7.930775065286956e-07" iyz="6.6531359482519155e-12" ixz="-3.032697492655681e-12" />
        </inertial>
        <visual name="leg5_MG996f_visual">
            <origin xyz="0.004700000000000006 9.880984919163893e-17 0.014999999999999982" rpy="-1.5707963267948968 -1.224646799147353e-16 1.5559211466421447e-32" />
            <geometry>
                <mesh filename="Hexapod-Hardware/CAD/MG996.stl" scale="0.001 0.001 0.001" />
            </geometry>
            <material name="black" />
        </visual>
        <collision name="leg5_MG996f_collision">
            <origin xyz="0.004700000000000006 9.880984919163893e-17 0.014999999999999982" rpy="-1.5707963267948968 -1.224646799147353e-16 1.5559211466421447e-32" />
            <geometry>
                <mesh filename="Hexapod-Hardware/CAD/MG996.stl" scale="0.001 0.001 0.001" />
            </geometry>
        </collision>
    </link>
    <link name="leg5_femur">
        <inertial>
            <origin xyz="0.0031247845947285314 0.02288109973213497 0.04552760716696307" rpy="0.0 -0.0 0.0" />
            <mass value="0.2061355014221325" />
            <inertia ixx="0.0001559189575796934" iyy="8.656809797862215e-05" izz="0.00010098830847278658" ixy="-3.823774703444591e-06" iyz="4.6347847305270836e-06" ixz="-1.1513127819474294e-05" />
        </inertial>
        <visual name="leg5_femur_visual">
            <origin xyz="0.0 0.04299999999999991 4.440892098500626e-18" rpy="1.5707963267948966 -0.6108652381980154 -1.8369701987210294e-16" />
            <geometry>
                <mesh filename="Hexapod-Hardware/CAD/femur_left.stl" scale="0.001 0.001 0.001" />
            </geometry>
            <material name="black" />
        </visual>
        <collision name="leg5_femur_collision">
            <origin xyz="0.0 0.04299999999999991 4.440892098500626e-18" rpy="1.5707963267948966 -0.6108652381980154 -1.8369701987210294e-16" />
            <geometry>
                <mesh filename="Hexapod-Hardware/CAD/femur_left.stl" scale="0.001 0.001 0.001" />
            </geometry>
        </collision>
    </link>
    <link name="leg5_MG996t">
        <inertial>
            <origin xyz="0.01007155034905928 -0.01926624141356212 7.126506238464003e-09" rpy="0.0 -0.0 0.0" />
            <mass value="0.20641808912389753" />
            <inertia ixx="2.7773631636875433e-05" iyy="3.601102430698597e-05" izz="5.047674093601982e-05" ixy="7.930775065286854e-07" iyz="-6.65313593808752e-12" ixz="-3.0326969234495404e-12" />
        </inertial>
        <visual name="leg5_MG996t_visual">
            <origin xyz="0.030249998321848822 -0.011049999999999892 -0.009749995092565591" rpy="1.5707963267948966 -2.947193223346186e-16 -3.141592653589793" />
            <geometry>
                <mesh filename="Hexapod-Hardware/CAD/MG996.stl" scale="0.001 0.001 0.001" />
            </geometry>
            <material name="black" />
        </visual>
        <collision name="leg5_MG996t_collision">
            <origin xyz="0.030249998321848822 -0.011049999999999892 -0.009749995092565591" rpy="1.5707963267948966 -2.947193223346186e-16 -3.141592653589793" />
            <geometry>
                <mesh filename="Hexapod-Hardware/CAD/MG996.stl" scale="0.001 0.001 0.001" />
            </geometry>
        </collision>
    </link>
    <link name="leg5_tibia">
        <inertial>
            <origin xyz="0.046493431001056094 0.01000594893287588 0.0027202140651986363" rpy="0.0 -0.0 0.0" />
            <mass value="0.09285304614043133" />
            <inertia ixx="6.422753246891251e-06" iyy="0.00010153034858821064" izz="9.86890301882602e-05" ixy="-2.6666870421129565e-06" iyz="-9.576742803426856e-07" ixz="-8.30271171873122e-06" />
        </inertial>
        <visual name="leg5_tibia_visual">
            <origin xyz="0.04429999832184882 0.007299999999999891 -0.01525000490743441" rpy="1.5707963267948963 -1.5707963267948963 0" />
            <geometry>
                <mesh filename="Hexapod-Hardware/CAD/tibia_left.stl" scale="0.001 0.001 0.001" />
            </geometry>
            <material name="black" />
        </visual>
        <collision name="leg5_tibia_collision">
            <origin xyz="0.04429999832184882 0.007299999999999891 -0.01525000490743441" rpy="1.5707963267948963 -1.5707963267948963 0" />
            <geometry>
                <mesh filename="Hexapod-Hardware/CAD/tibia_left.stl" scale="0.001 0.001 0.001" />
            </geometry>
        </collision>
    </link>
    <!--
    <link name="leg5_shield">
        <inertial>
            <origin xyz="0.007956859434655482 -3.214487109154396e-07 -0.03213715191944118" rpy="0.0 -0.0 0.0" />
            <mass value="0.09400422482344938" />
            <inertia ixx="0.00011235877990886482" iyy="9.902587291231446e-05" izz="1.7880722808844853e-05" ixy="-4.0860511541396683e-10" iyz="1.6353321898954307e-10" ixz="-3.853286382860411e-06" />
        </inertial>
        <visual name="leg5_shield_visual">
            <origin xyz="-4.907434369982866e-09 0.0200000000000001 0.018000000805759874" rpy="1.0845452443044073e-31 1.570796326794896 0" />
            <geometry>
                <mesh filename="Hexapod-Hardware/CAD/shield.stl" scale="0.001 0.001 0.001" />
            </geometry>
            <material name="orange" />
        </visual>
        <collision name="leg5_shield_collision">
            <origin xyz="-4.907434369982866e-09 0.0200000000000001 0.018000000805759874" rpy="1.0845452443044073e-31 1.570796326794896 0" />
            <geometry>
                <mesh filename="Hexapod-Hardware/CAD/shield.stl" scale="0.001 0.001 0.001" />
            </geometry>
        </collision>
    </link>
    -->

    <!--Leg 6 links-->
    <link name="leg6_MG996c">
        <inertial>
            <origin xyz="0.013879409959183846 0.021304026820937193 0.008216241413562222" rpy="0.0 -0.0 0.0" />
            <mass value="0.20641808912389753" />
            <inertia ixx="3.912518931914661e-05" iyy="3.9125183253751247e-05" izz="3.6011024306985316e-05" ixy="-1.1351554649573388e-05" iyz="5.607857783954167e-07" ixz="5.607951873505041e-07" />
        </inertial>
        <visual name="leg6_MG996c_visual">
            <origin xyz="-0.00728320012188517 0.013930002111247335 -2.220446049250313e-18" rpy="3.141592653589793 -0.0 0.7853981633974483" />
            <geometry>
                <mesh filename="Hexapod-Hardware/CAD/MG996.stl" scale="0.001 0.001 0.001" />
            </geometry>
            <material name="black" />
        </visual>
        <collision name="leg6_MG996c_collision">
            <origin xyz="-0.00728320012188517 0.013930002111247335 -2.220446049250313e-18" rpy="3.141592653589793 -0.0 0.7853981633974483" />
            <geometry>
                <mesh filename="Hexapod-Hardware/CAD/MG996.stl" scale="0.001 0.001 0.001" />
            </geometry>
        </collision>
    </link>
    <link name="leg6_coxa">
        <inertial>
            <origin xyz="0.018048605950282397 -0.017834011443630563 -0.024879639248893887" rpy="0.0 -0.0 0.0" />
            <mass value="0.07898637744159481" />
            <inertia ixx="6.024548174035909e-05" iyy="6.066802203296567e-05" izz="2.4265877776310065e-05" ixy="1.0825354473048359e-05" iyz="4.178916067901885e-06" ixz="-4.23535359535694e-06" />
        </inertial>
        <visual name="leg6_coxa_visual">
            <origin xyz="0.037476660528463754 -0.0374766605284586 0.0010000000000000054" rpy="3.141592653589793 -0.0 -2.356194490192345" />
            <geometry>
                <mesh filename="Hexapod-Hardware/CAD/coxa_left.stl" scale="0.001 0.001 0.001" />
            </geometry>
            <material name="black" />
        </visual>
        <collision name="leg6_coxa_collision">
            <origin xyz="0.037476660528463754 -0.0374766605284586 0.0010000000000000054" rpy="3.141592653589793 -0.0 -2.356194490192345" />
            <geometry>
                <mesh filename="Hexapod-Hardware/CAD/coxa_left.stl" scale="0.001 0.001 0.001" />
            </geometry>
        </collision>
    </link>
    <link name="leg6_MG996f">
        <inertial>
            <origin xyz="0.024878447972789576 -0.0020974514036173632 0.009522073698567297" rpy="0.0 -0.0 0.0" />
            <mass value="0.20641808912389753" />
            <inertia ixx="2.777363163687565e-05" iyy="4.3243889274639053e-05" izz="4.324387596836739e-05" ixy="-5.607926273139301e-07" iyz="7.232858314518663e-06" ixz="5.607883384319703e-07" />
        </inertial>
        <visual name="leg6_MG996f_visual">
            <origin xyz="0.004700000000000009 0.01060660130146781 0.010606606364861283" rpy="-2.356194490192345 1.1102230246251565e-16 -1.1102230246251565e-16" />
            <geometry>
                <mesh filename="Hexapod-Hardware/CAD/MG996.stl" scale="0.001 0.001 0.001" />
            </geometry>
            <material name="black" />
        </visual>
        <collision name="leg6_MG996f_collision">
            <origin xyz="0.004700000000000009 0.01060660130146781 0.010606606364861283" rpy="-2.356194490192345 1.1102230246251565e-16 -1.1102230246251565e-16" />
            <geometry>
                <mesh filename="Hexapod-Hardware/CAD/MG996.stl" scale="0.001 0.001 0.001" />
            </geometry>
        </collision>
    </link>
    <link name="leg6_femur">
        <inertial>
            <origin xyz="0.01838893925564591 0.01396982106909478 0.04552760716696309" rpy="0.0 -0.0 0.0" />
            <mass value="0.2061355014221325" />
            <inertia ixx="0.00011741975307571258" iyy="0.00012506730248260106" izz="0.00010098830847278534" ixy="-3.467542980053552e-05" iyz="1.141829846611274e-05" ixz="-4.863723041521754e-06" />
        </inertial>
        <visual name="leg6_femur_visual">
            <origin xyz="0.030405593688389257 0.030405588255197725 1.5543122344752193e-17" rpy="1.5707963267948966 -0.6108652381980157 -0.7853981633974482" />
            <geometry>
                <mesh filename="Hexapod-Hardware/CAD/femur_left.stl" scale="0.001 0.001 0.001" />
            </geometry>
            <material name="black" />
        </visual>
        <collision name="leg6_femur_collision">
            <origin xyz="0.030405593688389257 0.030405588255197725 1.5543122344752193e-17" rpy="1.5707963267948966 -0.6108652381980157 -0.7853981633974482" />
            <geometry>
                <mesh filename="Hexapod-Hardware/CAD/femur_left.stl" scale="0.001 0.001 0.001" />
            </geometry>
        </collision>
    </link>
    <link name="leg6_MG996t">
        <inertial>
            <origin xyz="0.020744954714310017 -0.006501630387874666 7.126506282872924e-09" rpy="0.0 -0.0 0.0" />
            <mass value="0.20641808912389753" />
            <inertia ixx="3.109925046540247e-05" iyy="3.268540547845828e-05" izz="5.047674093602245e-05" ixy="-4.118696335055157e-06" iyz="-6.848918567697872e-12" ixz="2.560036384269271e-12" />
        </inertial>
        <visual name="leg6_MG996t_visual">
            <origin xyz="0.02920351209029386 0.0135764470269004 -0.009749995092565538" rpy="1.5707963267948966 -1.110223024625156e-16 -2.356194490192345" />
            <geometry>
                <mesh filename="Hexapod-Hardware/CAD/MG996.stl" scale="0.001 0.001 0.001" />
            </geometry>
            <material name="black" />
        </visual>
        <collision name="leg6_MG996t_collision">
            <origin xyz="0.02920351209029386 0.0135764470269004 -0.009749995092565538" rpy="1.5707963267948966 -1.110223024625156e-16 -2.356194490192345" />
            <geometry>
                <mesh filename="Hexapod-Hardware/CAD/MG996.stl" scale="0.001 0.001 0.001" />
            </geometry>
        </collision>
    </link>
    <link name="leg6_tibia">
        <inertial>
            <origin xyz="0.039951094842005756 -0.025800551093326546 0.01322021406519859" rpy="0.0 -0.0 0.0" />
            <mass value="0.09285304614043133" />
            <inertia ixx="5.130986387543804e-05" iyy="5.6643237959664444e-05" izz="9.868903018825983e-05" ixy="4.755379767065945e-05" iyz="5.193725780753764e-06" ixz="-6.548081736350214e-06" />
        </inertial>
        <visual name="leg6_tibia_visual">
            <origin xyz="0.036486708880480986 -0.02616295481176401 -0.004750004907434464" rpy="0.7853981633974483 -1.5707963267948966 0" />
            <geometry>
                <mesh filename="Hexapod-Hardware/CAD/tibia_left.stl" scale="0.001 0.001 0.001" />
            </geometry>
            <material name="black" />
        </visual>
        <collision name="leg6_tibia_collision">
            <origin xyz="0.036486708880480986 -0.02616295481176401 -0.004750004907434464" rpy="0.7853981633974483 -1.5707963267948966 0" />
            <geometry>
                <mesh filename="Hexapod-Hardware/CAD/tibia_left.stl" scale="0.001 0.001 0.001" />
            </geometry>
        </collision>
    </link>
    <!--
    <link name="leg6_shield">
        <inertial>
            <origin xyz="0.007956859434655428 -0.022724628049435473 -0.02272417513409943" rpy="0.0 -0.0 0.0" />
            <mass value="0.09400422482344938" />
            <inertia ixx="0.00011235877990886396" iyy="5.845346139379988e-05" izz="5.8453134327359976e-05" ixy="-2.724973858621955e-06" iyz="-4.057257505173497e-05" ixz="-2.7243960037267277e-06" />
        </inertial>
        <visual name="leg6_shield_visual">
            <origin xyz="-4.907434458800708e-09 0.02687005555423408 -0.001414217375018474" rpy="-1.5707963267948966 0.7853981633974482 -1.5707963267948966" />
            <geometry>
                <mesh filename="Hexapod-Hardware/CAD/shield.stl" scale="0.001 0.001 0.001" />
            </geometry>
            <material name="orange" />
        </visual>
        <collision name="leg6_shield_collision">
            <origin xyz="-4.907434458800708e-09 0.02687005555423408 -0.001414217375018474" rpy="-1.5707963267948966 0.7853981633974482 -1.5707963267948966" />
            <geometry>
                <mesh filename="Hexapod-Hardware/CAD/shield.stl" scale="0.001 0.001 0.001" />
            </geometry>
        </collision>
    </link>
    -->

    <!--Leg 1 joints-->
    <joint name="base_link_leg1_MG996c" type="fixed">
        <origin xyz="-0.03264053 -0.060065150000000005 0.013999999999999999" rpy="3.141592653589793 -0.0 0.0" />
        <parent link="base_link" />
        <child link="leg1_MG996c" />
    </joint>
    <joint name="leg1_coxa_joint" type="revolute">
        <origin xyz="-0.028425689999999997 0.021001069999999997 -0.01005" rpy="3.141592653589793 -0.0 0.0" />
        <parent link="leg1_MG996c" />
        <child link="leg1_coxa" />
        <axis xyz="0.0 0.0 1.0" />
        <limit lower="-1.570796" upper="1.570796" effort="1000000" velocity="1000000" />
    </joint>
    <joint name="leg1_coxa_MG996f" type="fixed">
        <origin xyz="-0.02916816000000001 -0.03906765 -0.04585" rpy="-0.0 -1.5707963267948966 0" />
        <parent link="leg1_coxa" />
        <child link="leg1_MG996f" />
    </joint>
    <joint name="leg1_femur_joint" type="revolute">
        <origin xyz="0.03495 -0.0033941100000000014 -0.010818740000000009" rpy="-0.0 1.5707963267948966 0" />
        <parent link="leg1_MG996f" />
        <child link="leg1_femur" />
        <axis xyz="0.707107 -0.707107 0.0" />
        <limit lower="-0.785398" upper="2.356194" effort="1000000" velocity="1000000" />
    </joint>
    <joint name="leg1_tibia_joint" type="revolute">
        <origin xyz="-0.020211430000000002 -0.021625650000000007 0.06344155000000001" rpy="3.141592653589793 -5.551115123125783e-17 0.0" />
        <parent link="leg1_femur" />
        <child link="leg1_MG996t" />
        <axis xyz="0.707107 0.707107 3.925232361368103e-17" />
        <limit lower="-3.14159" upper="3.14159" effort="1000000" velocity="1000000" />
    </joint>
    <joint name="leg1_MG996t_tibia" type="fixed">
        <origin xyz="0.0024041599999999976 -0.018031230000000013 0.005250000000000004" rpy="-3.141592653589793 -5.55111512312578e-17 0.0" />
        <parent link="leg1_MG996t" />
        <child link="leg1_tibia" />
    </joint>
    <!--
    <joint name="leg1_tibia_shield" type="fixed">
        <origin xyz="-0.07392547999999997 -0.05794487000000002 0.02125" rpy="-3.222902565236662e-64 -1.5707963267948966 0" />
        <parent link="leg1_tibia" />
        <child link="leg1_shield" />
    </joint>
    -->

    <!--Leg 2 joints-->
    <joint name="base_link_leg2_MG996c" type="fixed">
        <origin xyz="-0.046200000000000005 -0.00525 0.013999999999999999" rpy="3.141592653589793 -0.0 0.0" />
        <parent link="base_link" />
        <child link="leg2_MG996c" />
    </joint>
    <joint name="leg2_coxa_joint" type="revolute">
        <origin xyz="-0.03495 -0.00525 -0.01005" rpy="3.141592653589793 -0.0 0.0" />
        <parent link="leg2_MG996c" />
        <child link="leg2_coxa" />
        <axis xyz="0.0 0.0 1.0" />
        <limit lower="-1.570796" upper="1.570796" effort="1000000" velocity="1000000" />
    </joint>
    <joint name="leg2_coxa_MG996f" type="fixed">
        <origin xyz="-0.048249999999999994 -0.006999999999999999 -0.04585" rpy="-0.0 -1.5707963267948966 0" />
        <parent link="leg2_coxa" />
        <child link="leg2_MG996f" />
    </joint>
    <joint name="leg2_femur_joint" type="revolute">
        <origin xyz="0.03495 -0.010050000000000002 -0.005250000000000004" rpy="-0.0 1.5707963267948966 0" />
        <parent link="leg2_MG996f" />
        <child link="leg2_femur" />
        <axis xyz="0.0 -1.0 0.0" />
        <limit lower="-0.785398" upper="2.356194" effort="1000000" velocity="1000000" />
    </joint>
    <joint name="leg2_tibia_joint" type="revolute">
        <origin xyz="-0.029583280000000017 -0.0009999999999999987 0.06344155000000001" rpy="3.141592653589793 -0.0 0.0" />
        <parent link="leg2_femur" />
        <child link="leg2_MG996t" />
        <axis xyz="0.0 1.0 0.0" />
        <limit lower="-3.14159" upper="3.14159" effort="1000000" velocity="1000000" />
    </joint>
    <joint name="leg2_MG996t_tibia" type="fixed">
        <origin xyz="0.014450000000000003 -0.01105 -0.005250000000000004" rpy="-3.141592653589793 -1.2516661846134429e-49 0.0" />
        <parent link="leg2_MG996t" />
        <child link="leg2_tibia" />
    </joint>
    <!--
    <joint name="leg2_tibia_shield" type="fixed">
        <origin xyz="-0.09324641 0.0113 0.010749999999999994" rpy="-0.0 -1.5707963267948966 0" />
        <parent link="leg2_tibia" />
        <child link="leg2_shield" />
    </joint>
    -->

    <!--Leg 3 joints-->
    <joint name="base_link_leg3_MG996c" type="fixed">
        <origin xyz="-0.04006515 0.05264053 0.013999999999999999" rpy="3.141592653589793 -0.0 0.0" />
        <parent link="base_link" />
        <child link="leg3_MG996c" />
    </joint>
    <joint name="leg3_coxa_joint" type="revolute">
        <origin xyz="-0.021001069999999997 -0.028425690000000003 -0.01005" rpy="3.141592653589793 -0.0 0.0" />
        <parent link="leg3_MG996c" />
        <child link="leg3_coxa" />
        <axis xyz="0.0 0.0 1.0" />
        <limit lower="-1.570796" upper="1.570796" effort="1000000" velocity="1000000" />
    </joint>
    <joint name="leg3_coxa_MG996f" type="fixed">
        <origin xyz="-0.03906765 0.02916816000000001 -0.04585" rpy="-0.0 -1.5707963267948966 0" />
        <parent link="leg3_coxa" />
        <child link="leg3_MG996f" />
    </joint>
    <joint name="leg3_femur_joint" type="revolute">
        <origin xyz="0.03495 -0.010818740000000009 0.0033941100000000014" rpy="-0.0 1.5707963267948966 0" />
        <parent link="leg3_MG996f" />
        <child link="leg3_femur" />
        <axis xyz="-0.707107 -0.707107 0.0" />
        <limit lower="-0.785398" upper="2.356194" effort="1000000" velocity="1000000" />
    </joint>
    <joint name="leg3_tibia_joint" type="revolute">
        <origin xyz="-0.02268630999999999 0.01915077 0.06344155000000001" rpy="0.0 0.0 0.0" />
        <parent link="leg3_femur" />
        <child link="leg3_MG996t" />
        <axis xyz="-0.707107 -0.707107 0.0" />
        <limit lower="-3.14159" upper="3.14159" effort="1000000" velocity="1000000" />
    </joint>
    <joint name="leg3_MG996t_tibia" type="fixed">
        <origin xyz="0.017324120000000002 -0.0031112699999999906 -0.0052500000000000125" rpy="0.0 -3.050517397236834e-32 1.3465939511877539e-48" />
        <parent link="leg3_MG996t" />
        <child link="leg3_tibia" />
    </joint>
    <!--
    <joint name="leg3_tibia_shield" type="fixed">
        <origin xyz="-0.05794486000000001 0.07392547999999997 0.02125" rpy="4.930380657631325e-32 -1.5707963267948966 0" />
        <parent link="leg3_tibia" />
        <child link="leg3_shield" />
    </joint>
    -->

    <!--Leg 4 joints-->
    <joint name="base_link_leg4_MG996c" type="fixed">
        <origin xyz="0.03264053 0.060065150000000005 0.013999999999999999" rpy="3.141592653589793 -0.0 0.0" />
        <parent link="base_link" />
        <child link="leg4_MG996c" />
    </joint>
    <joint name="leg4_coxa_joint" type="revolute">
        <origin xyz="0.028425689999999997 -0.021001069999999997 -0.01005" rpy="3.141592653589793 -0.0 0.0" />
        <parent link="leg4_MG996c" />
        <child link="leg4_coxa" />
        <axis xyz="0.0 0.0 1.0" />
        <limit lower="-1.570796" upper="1.570796" effort="1000000" velocity="1000000" />
    </joint>
    <joint name="leg4_coxa_MG996f" type="fixed">
        <origin xyz="0.03164303 0.02174353 0.0027500000000000037" rpy="-3.141592653589793 -1.5707963267948966 0" />
        <parent link="leg4_coxa" />
        <child link="leg4_MG996f" />
    </joint>
    <joint name="leg4_femur_joint" type="revolute">
        <origin xyz="-0.014450000000000001 0.0033941100000000014 0.010818729999999999" rpy="3.141592653589793 -1.5707963267948966 0" />
        <parent link="leg4_MG996f" />
        <child link="leg4_femur" />
        <axis xyz="0.707107 -0.7071069999999999 -4.6222332968741714e-33" />
        <limit lower="-2.356194" upper="0.785398" effort="1000000" velocity="1000000" />
    </joint>
    <joint name="leg4_tibia_joint" type="revolute">
        <origin xyz="0.021625650000000007 0.020211430000000002 0.06344155" rpy="3.141592653589793 -5.592845782213251e-17 -3.655944291150896e-49" />
        <parent link="leg4_femur" />
        <child link="leg4_MG996t" />
        <axis xyz="-0.7071069999999999 -0.7071069999999999 -3.228531091625886e-17" />
        <limit lower="-3.14159" upper="3.14159" effort="1000000" velocity="1000000" />
    </joint>
    <joint name="leg4_MG996t_tibia" type="fixed">
        <origin xyz="-0.018031230000000013 0.0024041600000000154 0.005250000000000004" rpy="-3.141592653589793 -5.592845782213225e-17 -4.850773625799853e-32" />
        <parent link="leg4_MG996t" />
        <child link="leg4_tibia" />
    </joint>
    <!--
    <joint name="leg4_tibia_shield" type="fixed">
        <origin xyz="0.05794487000000002 0.07392548000000002 0.02124999999999999" rpy="3.141592653589793 -1.5707963267948966 0" />
        <parent link="leg4_tibia" />
        <child link="leg4_shield" />
    </joint>
    -->

    <!--Leg 5 joints-->
    <joint name="base_link_leg5_MG996c" type="fixed">
        <origin xyz="0.046200000000000005 0.00525 0.013999999999999999" rpy="3.141592653589793 -0.0 0.0" />
        <parent link="base_link" />
        <child link="leg5_MG996c" />
    </joint>
    <joint name="leg5_coxa_joint" type="revolute">
        <origin xyz="0.03495 0.00525 -0.01005" rpy="3.141592653589793 -0.0 0.0" />
        <parent link="leg5_MG996c" />
        <child link="leg5_coxa" />
        <axis xyz="0.0 0.0 1.0" />
        <limit lower="-1.570796" upper="1.570796" effort="1000000" velocity="1000000" />
    </joint>
    <joint name="leg5_coxa_MG996f" type="fixed">
        <origin xyz="0.037750000000000006 -0.006999999999999999 -0.04585" rpy="-3.141592653589793 -1.5707963267948966 0" />
        <parent link="leg5_coxa" />
        <child link="leg5_MG996f" />
    </joint>
    <joint name="leg5_femur_joint" type="revolute">
        <origin xyz="0.03495 0.010050000000000002 0.005249999999999986" rpy="-3.141592653589793 -1.5707963267948966 0" />
        <parent link="leg5_MG996f" />
        <child link="leg5_femur" />
        <axis xyz="0.0 -1.0 0.0" />
        <limit lower="-2.356194" upper="0.785398" effort="1000000" velocity="1000000" />
    </joint>
    <joint name="leg5_tibia_joint" type="revolute">
        <origin xyz="0.029583280000000017 -0.0009999999999999987 0.06344155000000001" rpy="-3.141592653589793 -3.627598386426402e-33 0.0" />
        <parent link="leg5_femur" />
        <child link="leg5_MG996t" />
        <axis xyz="0.0 -1.0 2.229123157024303e-33" />
        <limit lower="-3.14159" upper="3.14159" effort="1000000" velocity="1000000" />
    </joint>
    <joint name="leg5_MG996t_tibia" type="fixed">
        <origin xyz="-0.014450000000000003 -0.01105 -0.005250000000000004" rpy="3.141592653589793 -3.627598386426413e-33 8.086363567567113e-66" />
        <parent link="leg5_MG996t" />
        <child link="leg5_tibia" />
    </joint>
    <!--
    <joint name="leg5_tibia_shield" type="fixed">
        <origin xyz="0.09324640999999999 0.0113 0.010749999999999994" rpy="3.141592653589793 -1.5707963267948966 0" />
        <parent link="leg5_tibia" />
        <child link="leg5_shield" />
    </joint>
    -->

    <!--Leg 6 joints-->
    <joint name="base_link_leg6_MG996c" type="fixed">
        <origin xyz="0.04006515 -0.05264053 0.013999999999999999" rpy="3.141592653589793 -0.0 0.0" />
        <parent link="base_link" />
        <child link="leg6_MG996c" />
    </joint>
    <joint name="leg6_coxa_joint" type="revolute">
        <origin xyz="0.021001069999999997 0.028425690000000003 -0.01005" rpy="3.141592653589793 -0.0 0.0" />
        <parent link="leg6_MG996c" />
        <child link="leg6_coxa" />
        <axis xyz="0.0 0.0 1.0" />
        <limit lower="-1.570796" upper="1.570796" effort="1000000" velocity="1000000" />
    </joint>
    <joint name="leg6_coxa_MG996f" type="fixed">
        <origin xyz="0.02174353 -0.03164303 -0.04585" rpy="-3.141592653589793 -1.5707963267948966 0" />
        <parent link="leg6_coxa" />
        <child link="leg6_MG996f" />
    </joint>
    <joint name="leg6_femur_joint" type="revolute">
        <origin xyz="0.03495 0.010818729999999999 -0.0033941100000000014" rpy="-3.141592653589793 -1.5707963267948966 0" />
        <parent link="leg6_MG996f" />
        <child link="leg6_femur" />
        <axis xyz="-0.707107 -0.7071070000000002 0.0" />
        <limit lower="-2.356194" upper="0.785398" effort="1000000" velocity="1000000" />
    </joint>
    <joint name="leg6_tibia_joint" type="revolute">
        <origin xyz="0.020211430000000002 -0.02162564999999999 0.06344154999999999" rpy="3.141592653589793 -0.0 -5.5511151231257815e-17" />
        <parent link="leg6_femur" />
        <child link="leg6_MG996t" />
        <axis xyz="0.707107 -0.707107 0.0" />
        <limit lower="-3.14159" upper="3.14159" effort="1000000" velocity="1000000" />
    </joint>
    <joint name="leg6_MG996t_tibia" type="fixed">
        <origin xyz="-0.0024041599999999976 -0.018031230000000013 0.005250000000000004" rpy="3.141592653589793 -0.0 -5.55111512312578e-17" />
        <parent link="leg6_MG996t" />
        <child link="leg6_tibia" />
    </joint>
    <!--
    <joint name="leg6_tibia_shield" type="fixed">
        <origin xyz="0.07392547999999997 -0.05794487000000002 0.02125" rpy="-3.141592653589793 -1.5707963267948966 0" />
        <parent link="leg6_tibia" />
        <child link="leg6_shield" />
    </joint>
    -->
</robot>
